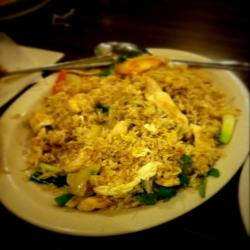omelette: (25, 68, 230, 200)
